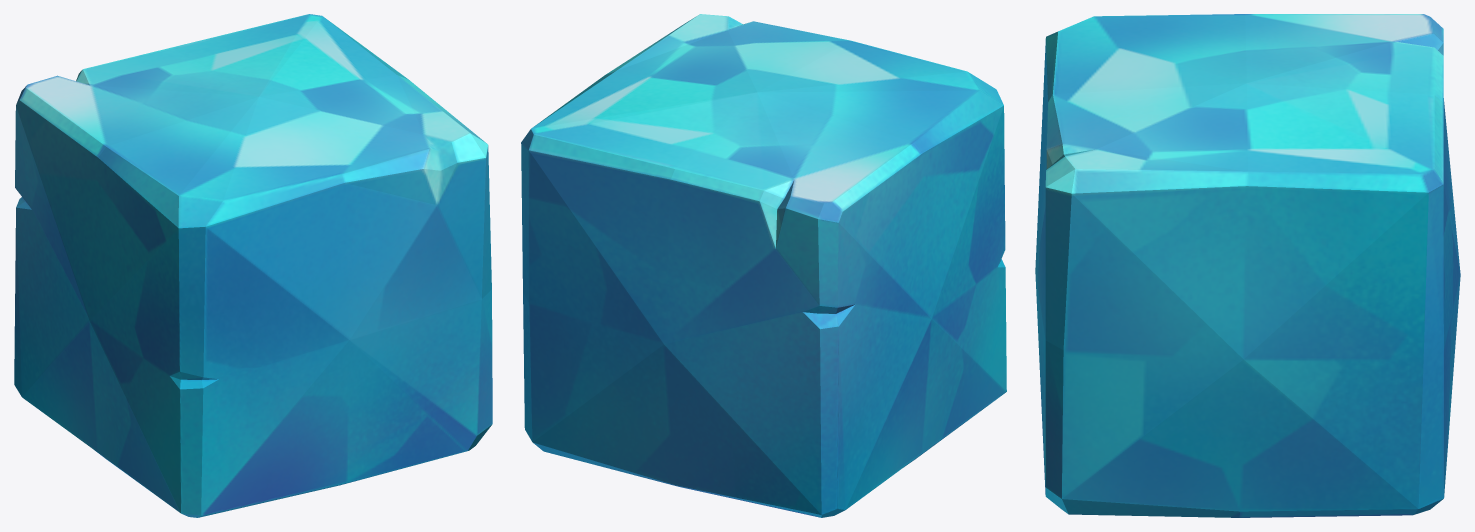
The model's file is ice.fbx.
3 views of the same model, side by side, from view 1: azimuth 30°, elevation 25°; view 2: azimuth 150°, elevation 25°; view 3: azimuth 270°, elevation 25° (orthographic). The views are drawn at different scales.
Parts seen in each view (by area): view 1: Cube.028; view 2: Cube.028; view 3: Cube.028.
Part boxes in pixels (x1=…): Cube.028: x1=14, y1=14, x2=492, y2=517; Cube.028: x1=521, y1=14, x2=1006, y2=517; Cube.028: x1=1035, y1=14, x2=1460, y2=517.
Bounding box in the file's own units: 234 × 218 × 235.
Materials: 1 (1 with a texture image).
